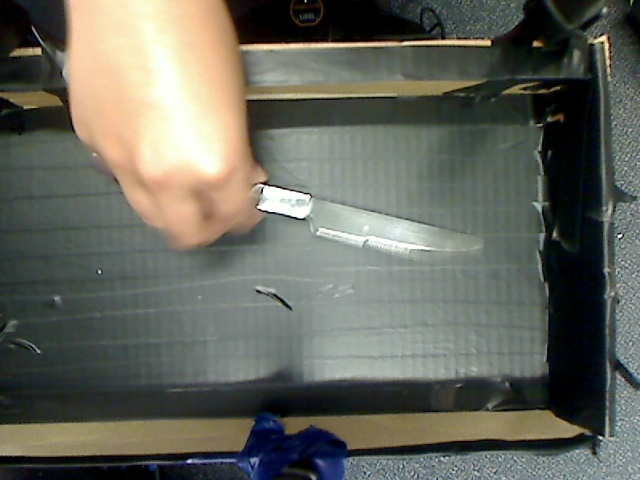knife: (213, 192, 500, 274)
